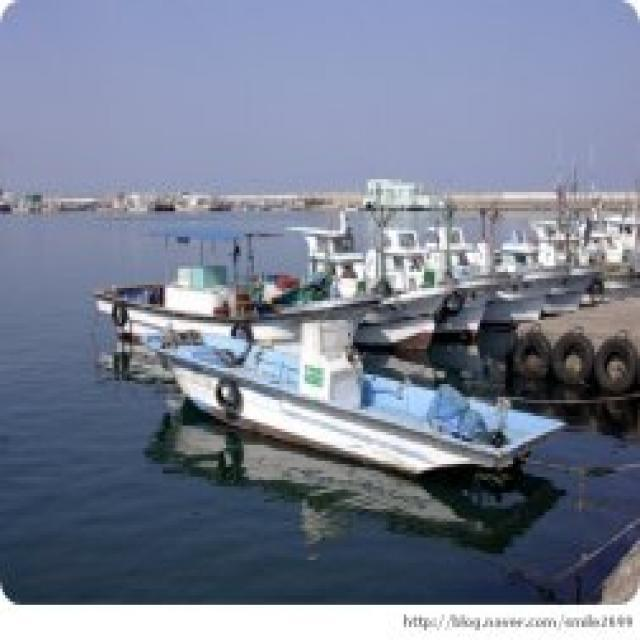Ship: (149, 321, 591, 513)
